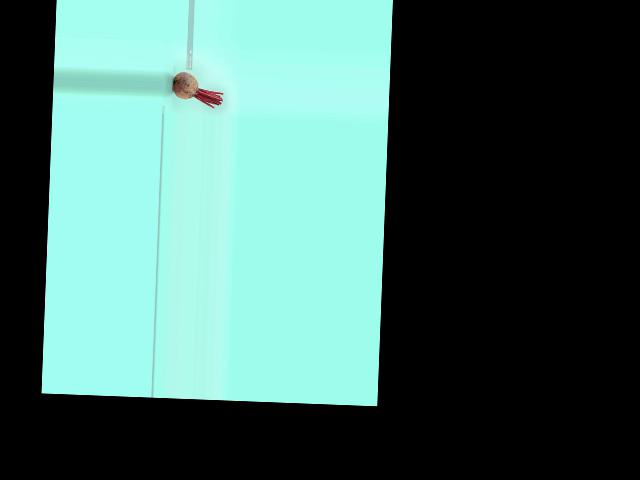beet: (172, 71, 223, 108)
